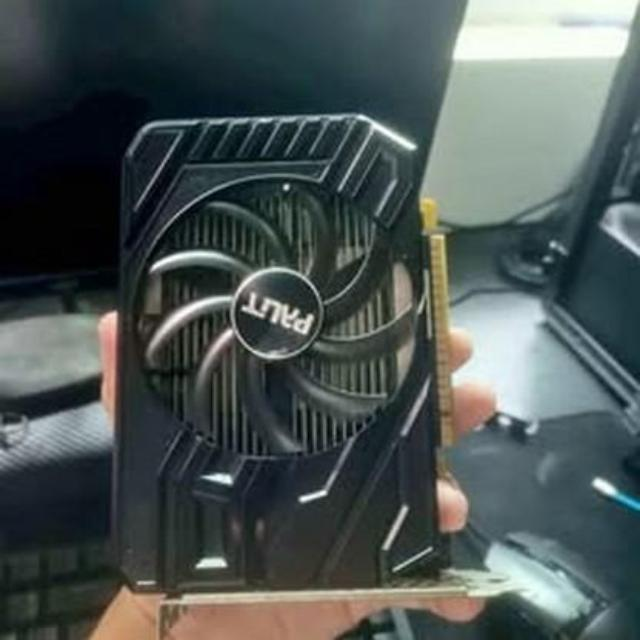GPU: (104, 104, 464, 602)
